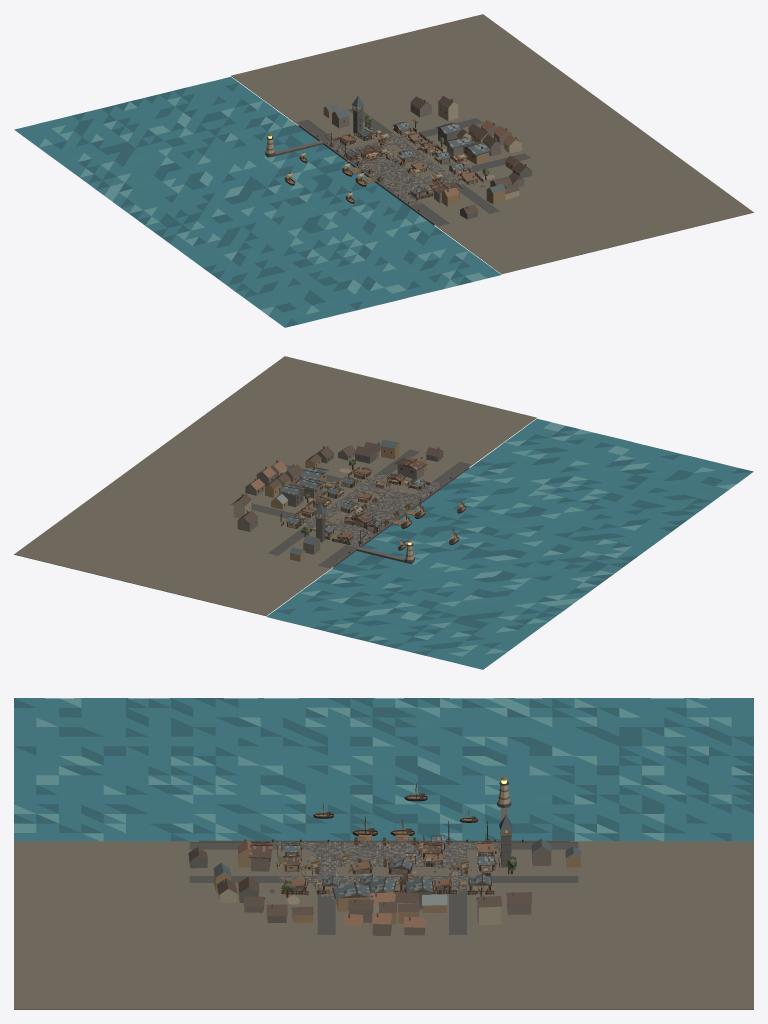
The model's file is kikoto.glb.
3 renders of one model, top to bottom at view 1: azimuth 30°, elevation 25°; view 2: azimuth 150°, elevation 25°; view 3: azimuth 270°, elevation 25°, orthographic. The views are drawn at different scales.
Parts seen in each view (by area): view 1: batch_far_earth, batch_far_water, batch_far_water_dark, batch_far_water_light, batch_stone_dark, batch_far_stone_dark, batch_far_roof_umber, batch_far_stone, batch_stone, batch_far_slate_blue, batch_far_wood_dark, batch_far_plaster (+7 smaller); view 2: batch_far_earth, batch_far_water, batch_far_water_dark, batch_far_water_light, batch_stone_dark, batch_far_roof_umber, batch_far_stone_dark, batch_far_plaster, batch_far_stone, batch_far_slate_blue, batch_stone, batch_far_wood_dark (+6 smaller); view 3: batch_far_earth, batch_far_water, batch_far_water_dark, batch_far_water_light, batch_stone_dark, batch_far_roof_umber, batch_far_stone_dark, batch_far_slate_blue, batch_stone, batch_far_roof_rust, batch_far_plaster, batch_far_wood_dark (+11 smaller).
Boxes of the visible parts, box(x1,y1,x2,y2) form: batch_far_earth: box(231, 14, 753, 273); batch_far_water: box(14, 76, 501, 327); batch_far_water_dark: box(53, 83, 472, 327); batch_far_water_light: box(39, 97, 486, 315); batch_stone_dark: box(297, 108, 499, 226); batch_far_stone_dark: box(265, 108, 530, 211); batch_far_roof_umber: box(410, 96, 530, 214); batch_far_stone: box(267, 98, 526, 209); batch_stone: box(299, 124, 435, 224); batch_far_slate_blue: box(324, 96, 505, 194); batch_far_wood_dark: box(267, 107, 518, 211); batch_far_plaster: box(332, 103, 524, 203); batch_far_earth: box(14, 356, 536, 615); batch_far_water: box(266, 418, 753, 669); batch_far_water_dark: box(275, 426, 753, 655); batch_far_water_light: box(299, 422, 736, 656); batch_stone_dark: box(268, 449, 470, 568); batch_far_roof_umber: box(233, 442, 443, 523); batch_far_stone_dark: box(230, 449, 438, 564); batch_far_plaster: box(237, 450, 424, 554); batch_far_stone: box(241, 442, 441, 562); batch_far_slate_blue: box(279, 439, 425, 555); batch_stone: box(332, 466, 468, 565); batch_far_wood_dark: box(246, 450, 466, 553); batch_far_earth: box(14, 841, 753, 1009); batch_far_water: box(14, 698, 753, 841); batch_far_water_dark: box(14, 698, 753, 841); batch_far_water_light: box(14, 698, 753, 841); batch_stone_dark: box(189, 838, 578, 882); batch_far_roof_umber: box(188, 842, 532, 916); batch_far_stone_dark: box(190, 801, 577, 934); batch_far_slate_blue: box(213, 815, 581, 898); batch_stone: box(199, 839, 568, 880); batch_far_roof_rust: box(237, 776, 509, 927); batch_far_plaster: box(244, 844, 551, 935); batch_far_wood_dark: box(244, 781, 523, 898).
Bounding box in the file's own units: 80 × 6.63 × 80.
